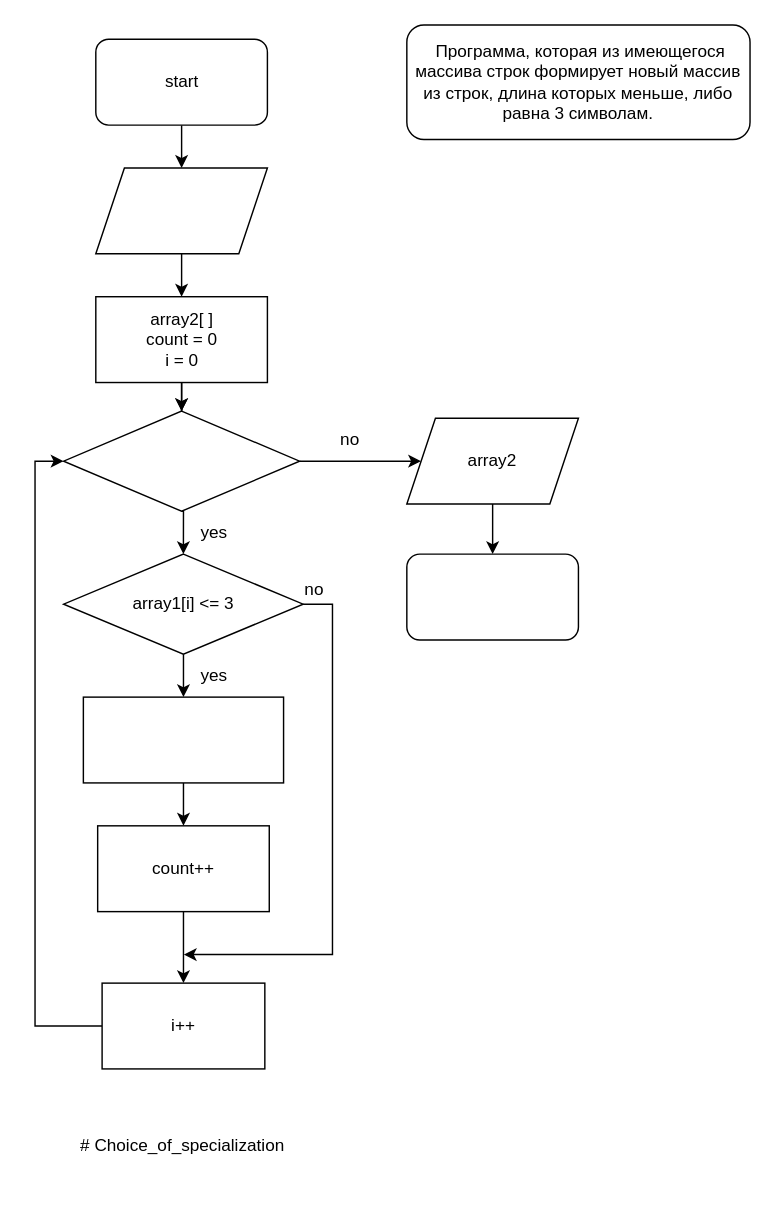
Image size: 775x1208. Some labels were removed from this diagram. Here are the shapes that lost their labels. From the top down, the box of each, then its label:
(94, 167, 267, 254): size array1[size]
(62, 410, 300, 511): i < size
(405, 553, 578, 640): and
(82, 696, 284, 783): array2[count] = array1[i]
